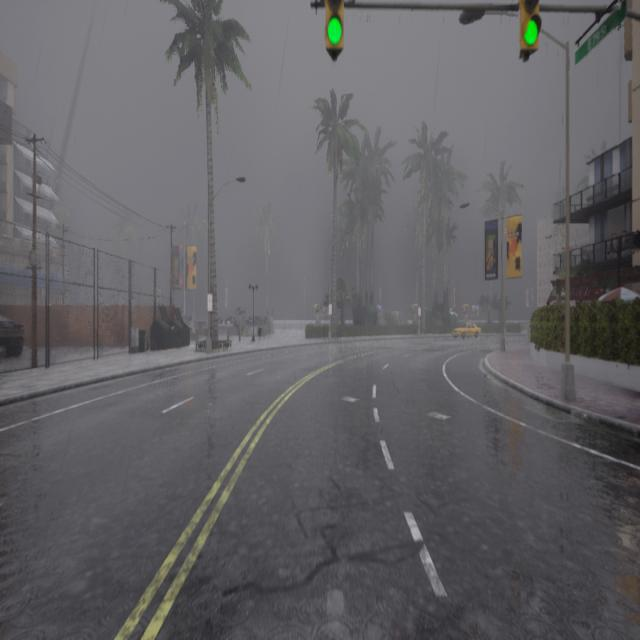9: (322, 0, 348, 64), (518, 0, 542, 66)
bien_hieu_lenh: (521, 13, 541, 49), (325, 12, 344, 48)
